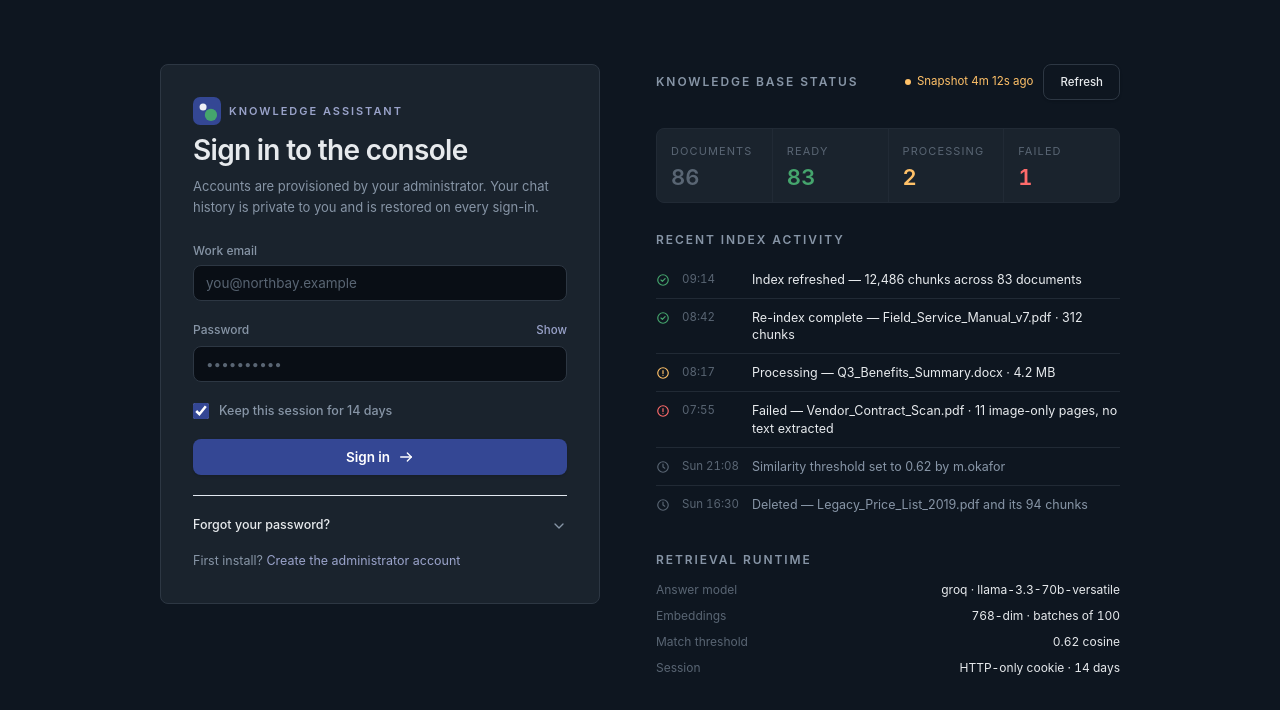
SignIn › AC-002: a 401 from login renders the single generic message
Type "disabled@b.com" into the field labelled "Work email" at (380, 283), box [193,265,567,301]
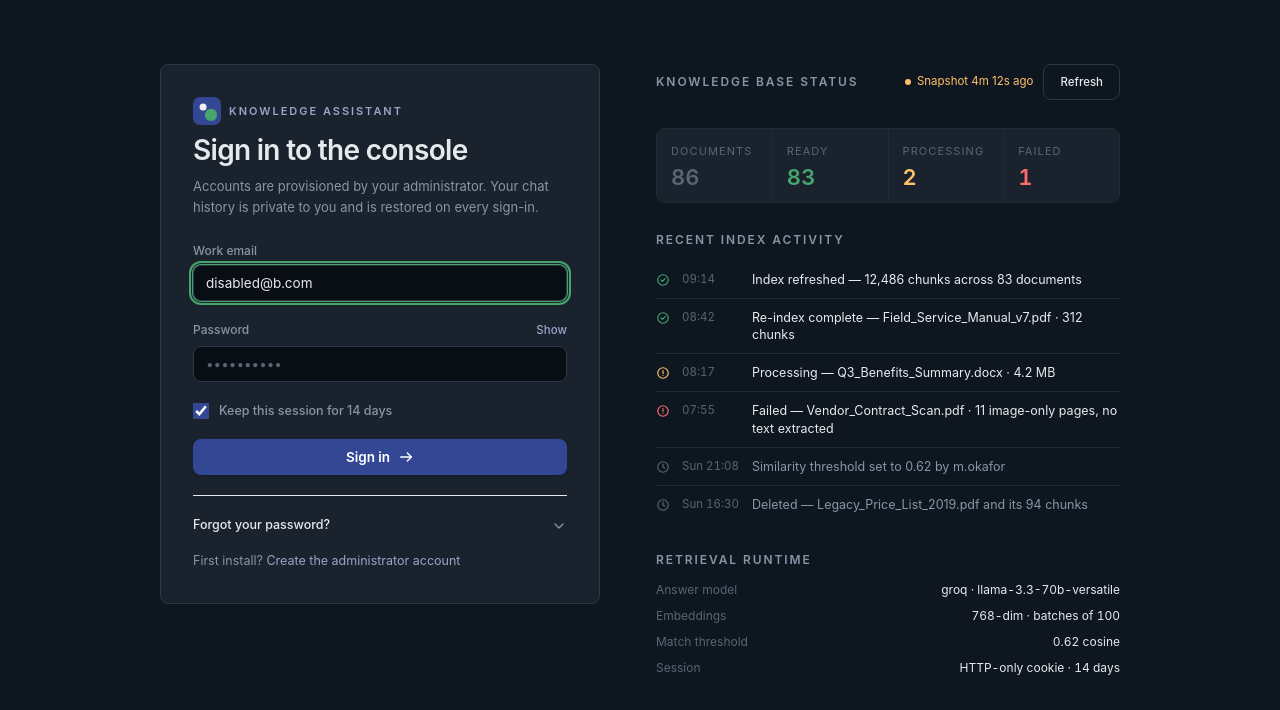
Type "whatever123" into the password field labelled "Password" at (380, 364), box [193,346,567,382]
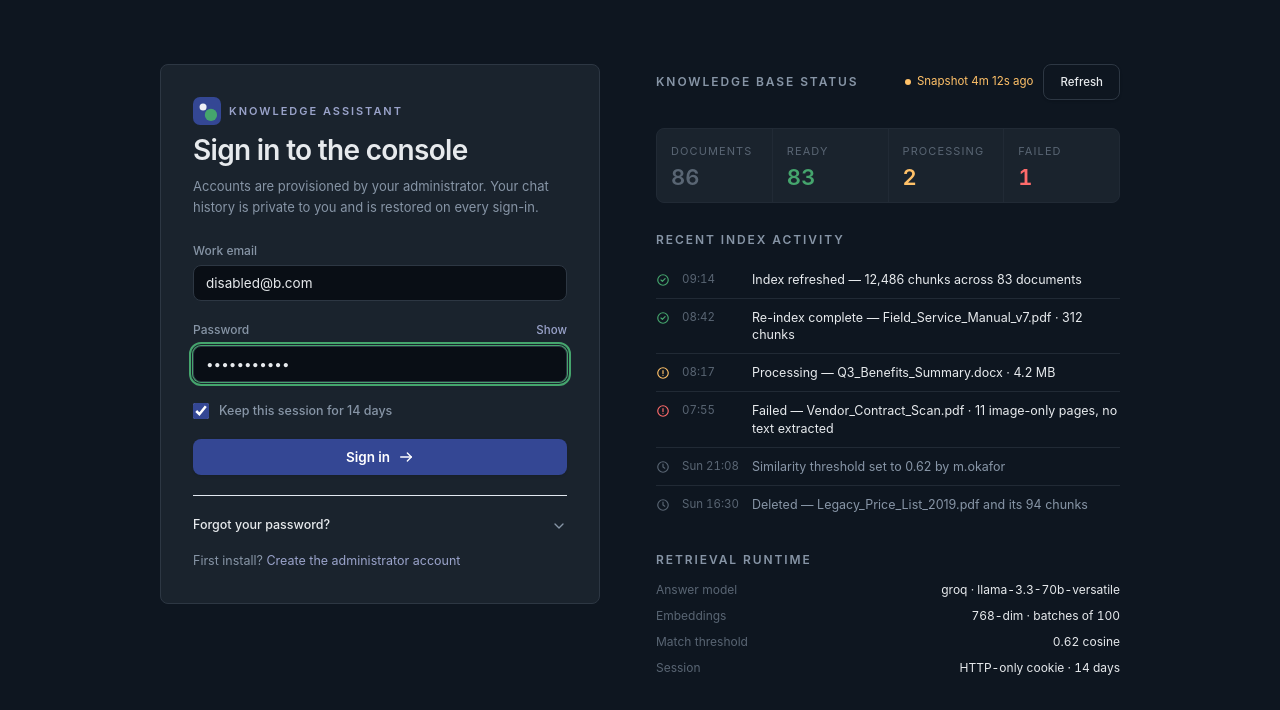
Click the button "Sign in" at (380, 458), box [193,440,567,476]
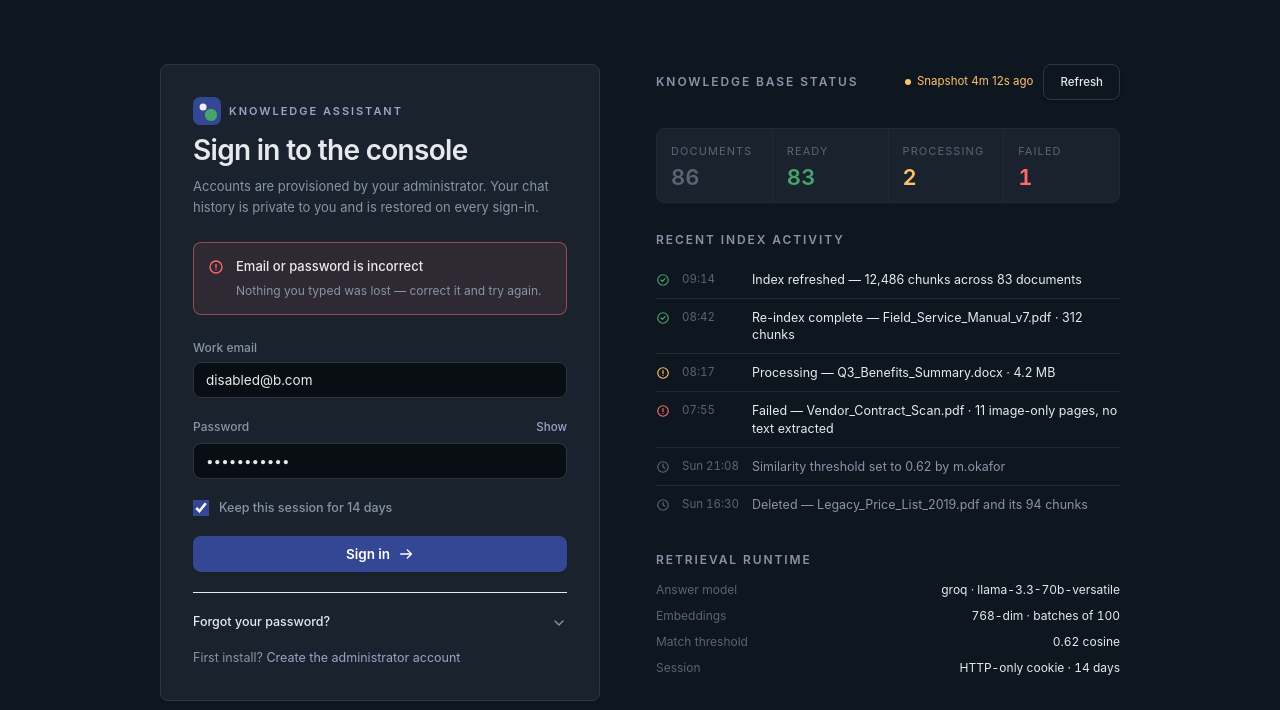
Check: the text "Email or password is incorrect" is shown, box [236,258,423,274]
